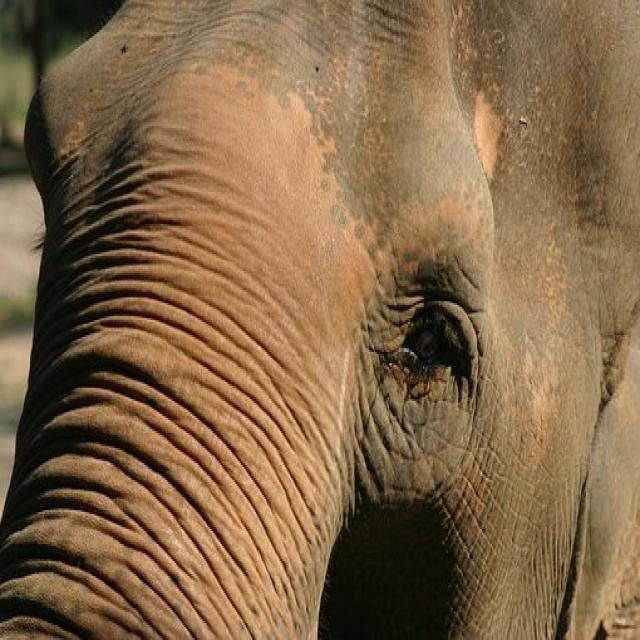Elephant: (21, 7, 639, 640)
